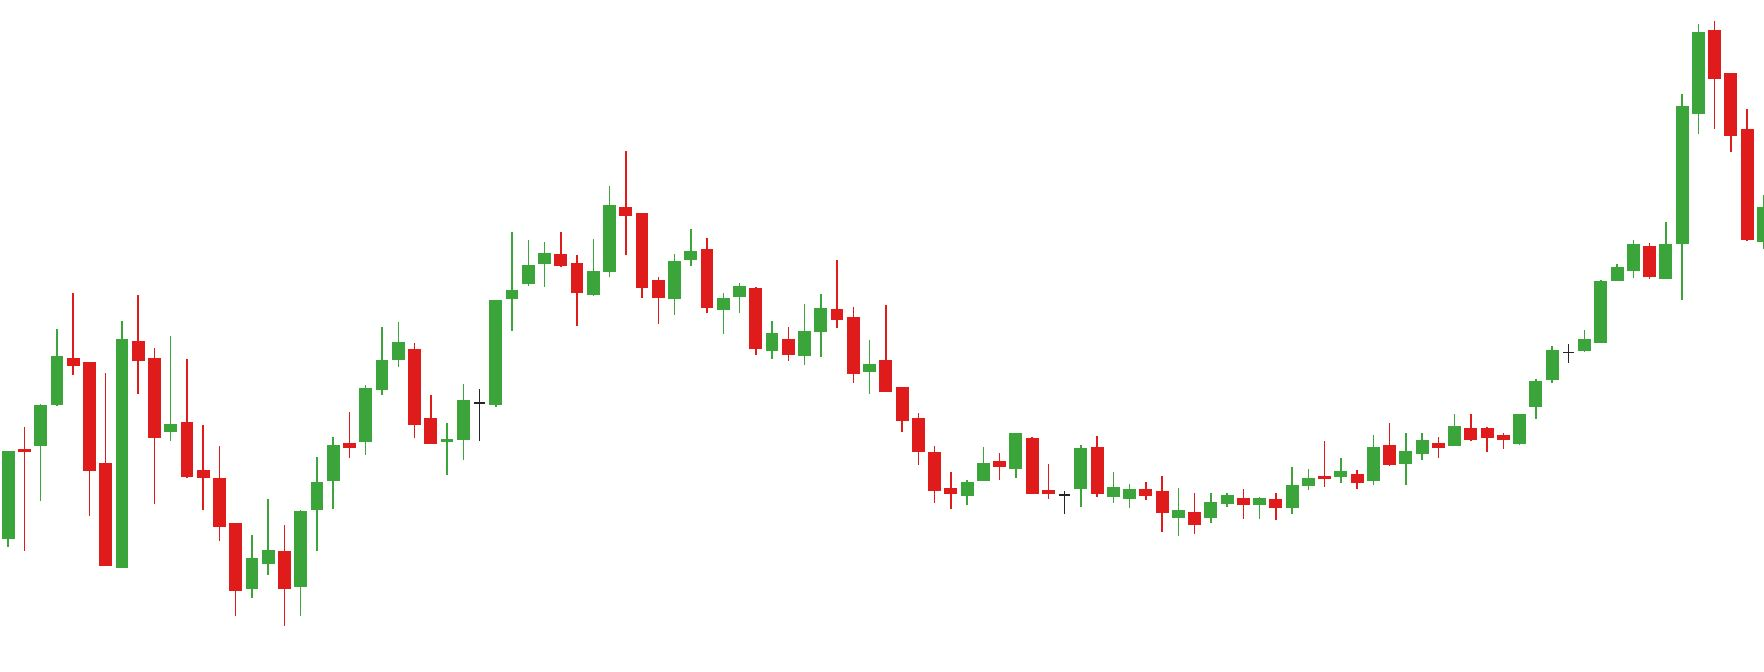buy: (94, 412, 262, 620)
sell: (503, 153, 651, 283)
